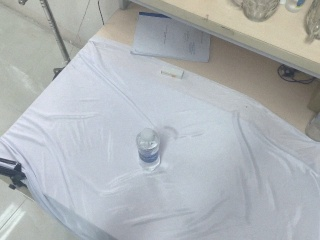bottle: (136, 128, 161, 173)
